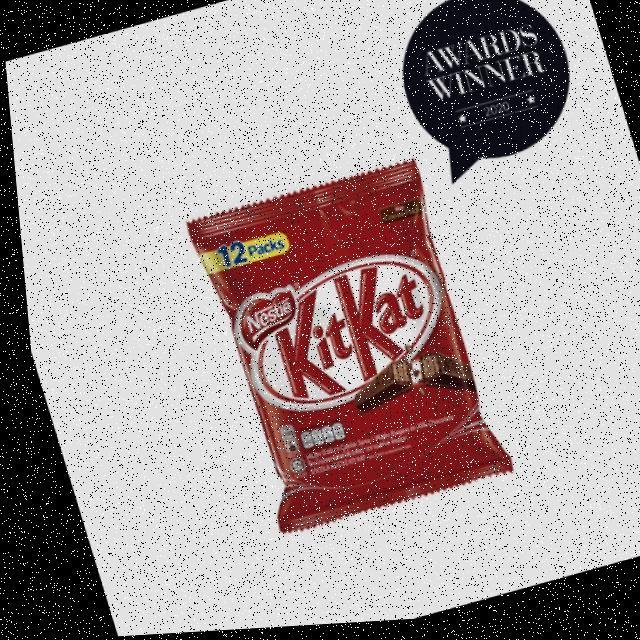kitkat_chocolate: (190, 216, 503, 496)
